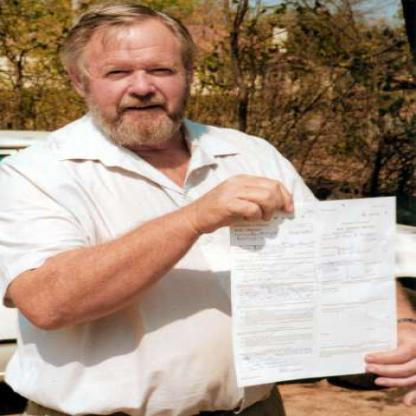face: (84, 7, 193, 148)
